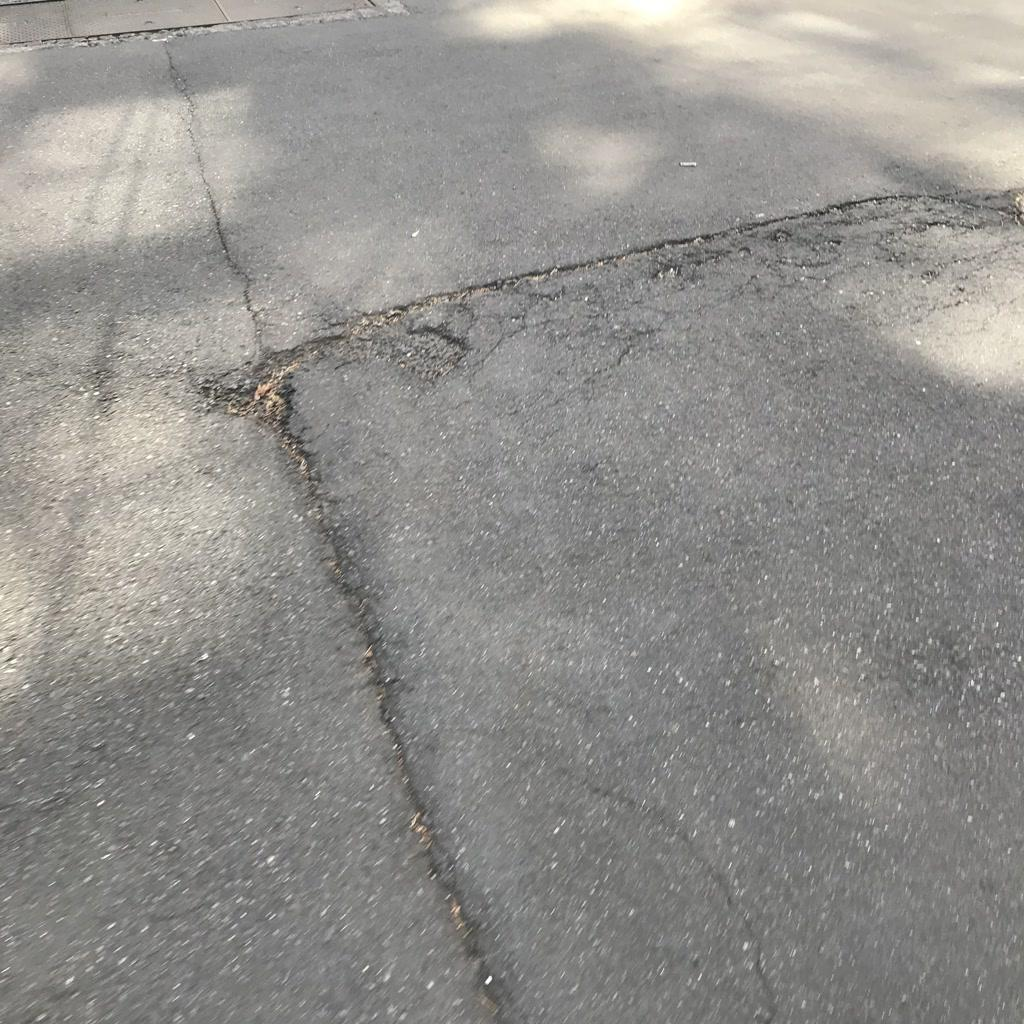pothole: (201, 198, 815, 414), (355, 321, 471, 394)
